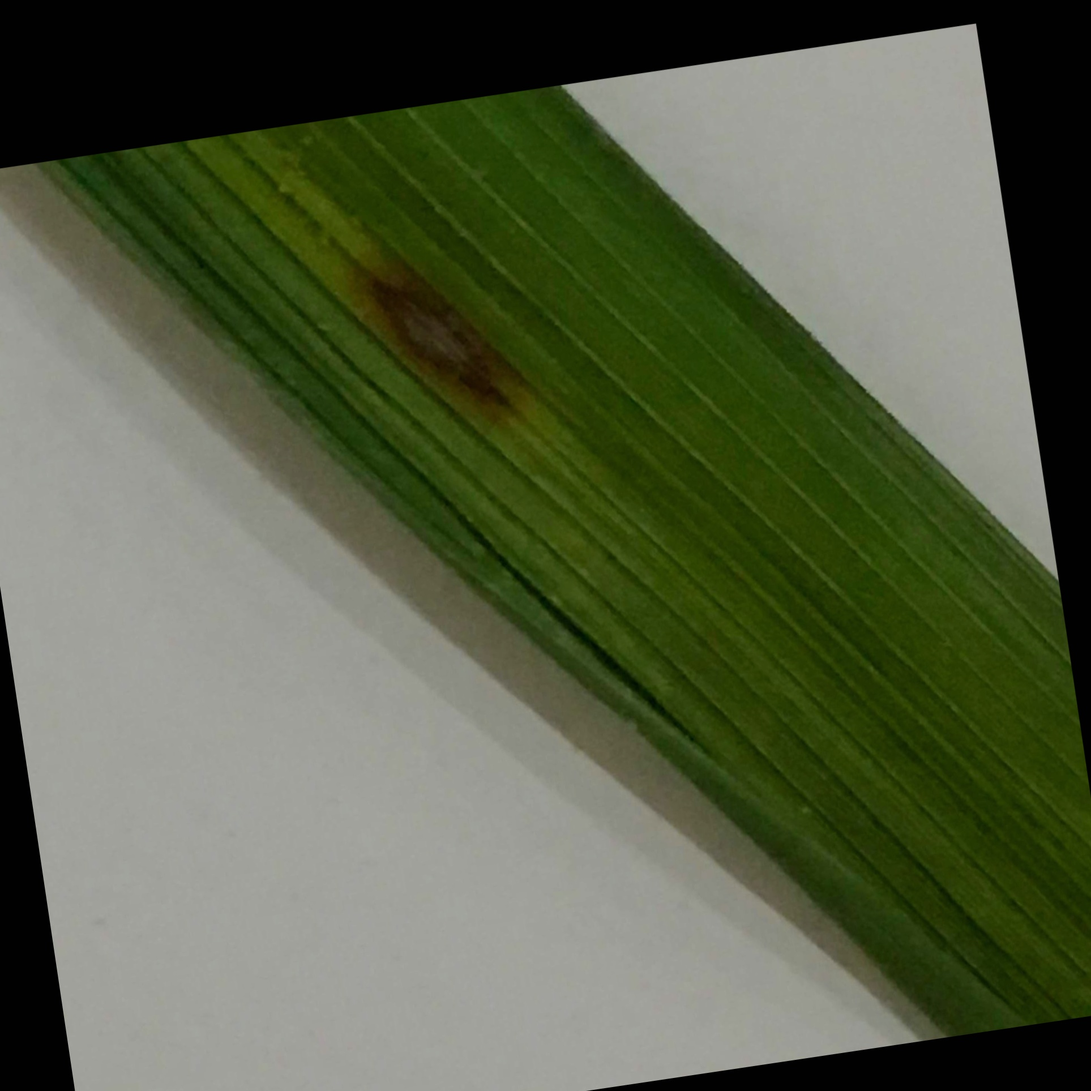Brown_Spot: (359, 202, 518, 446)
